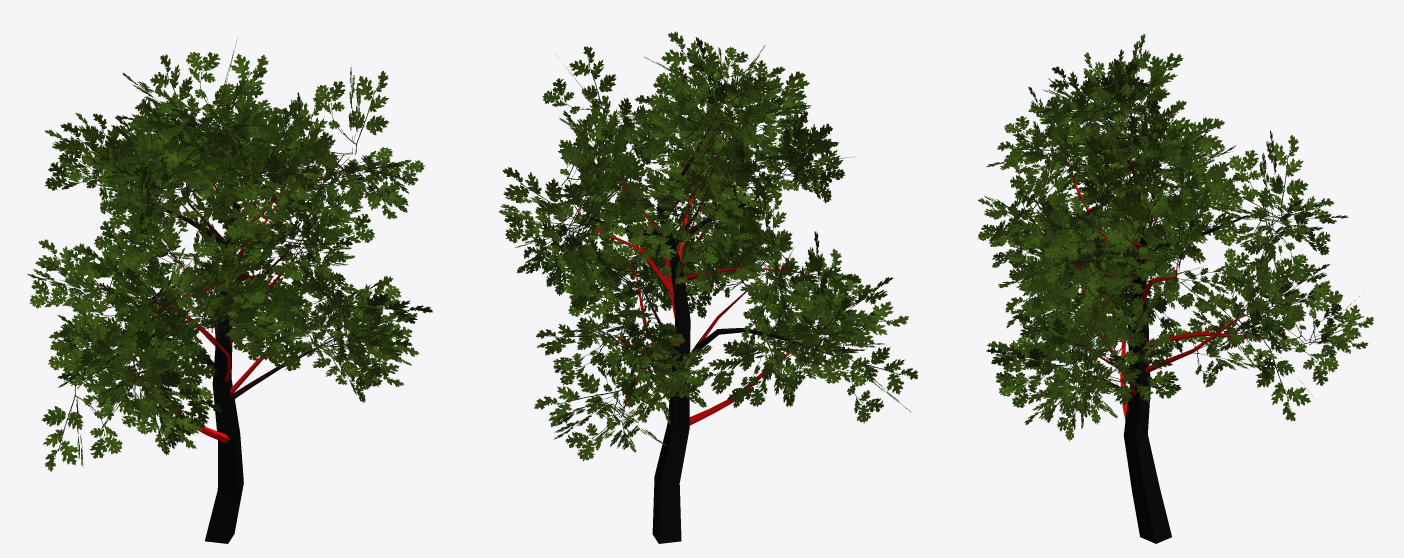
The model's file is maple1 lod1.FBX.
3 views of the same model, side by side, from view 1: azimuth 30°, elevation 25°; view 2: azimuth 150°, elevation 25°; view 3: azimuth 270°, elevation 25° (orthographic). The views are drawn at different scales.
Visible parts, largest first — view 1: maple1_LOD1; view 2: maple1_LOD1; view 3: maple1_LOD1.
Part boxes in pixels (x1=…): maple1_LOD1: x1=27, y1=39, x2=432, y2=543; maple1_LOD1: x1=499, y1=31, x2=918, y2=543; maple1_LOD1: x1=977, y1=34, x2=1373, y2=543.
Size of the model in its own units: 75381 by 95216 by 74340.
